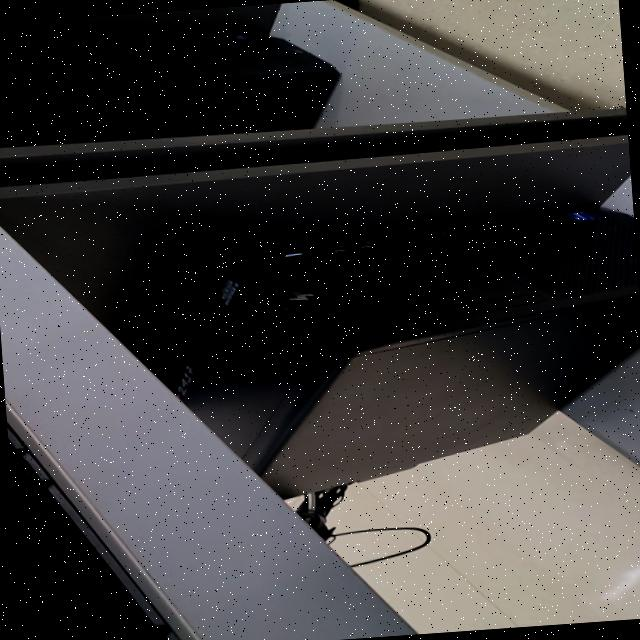Cpu: (171, 205, 640, 496), (0, 31, 338, 146)
Keyboard: (6, 417, 185, 640)
